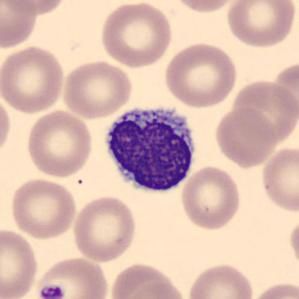Lymphocyte: (99, 98, 201, 198)
Platelets: (38, 284, 66, 298)
RBC: (162, 40, 239, 109), (98, 0, 174, 68), (24, 108, 95, 179), (70, 194, 138, 264), (0, 43, 67, 114), (230, 77, 298, 145), (8, 176, 78, 241), (60, 59, 134, 120), (178, 164, 244, 231), (212, 105, 278, 168), (223, 0, 298, 50), (33, 254, 110, 299), (108, 261, 184, 299), (0, 226, 39, 299), (259, 143, 298, 215), (185, 260, 257, 299), (0, 0, 39, 50), (119, 281, 189, 299), (1, 0, 69, 17), (169, 0, 243, 15), (248, 279, 298, 299), (0, 92, 13, 160), (287, 215, 299, 273)
